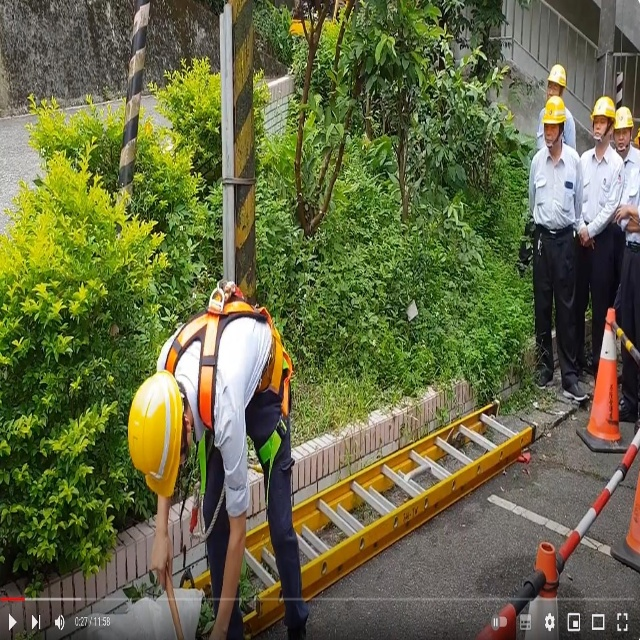Arnes_seguridad: (158, 280, 302, 520)
